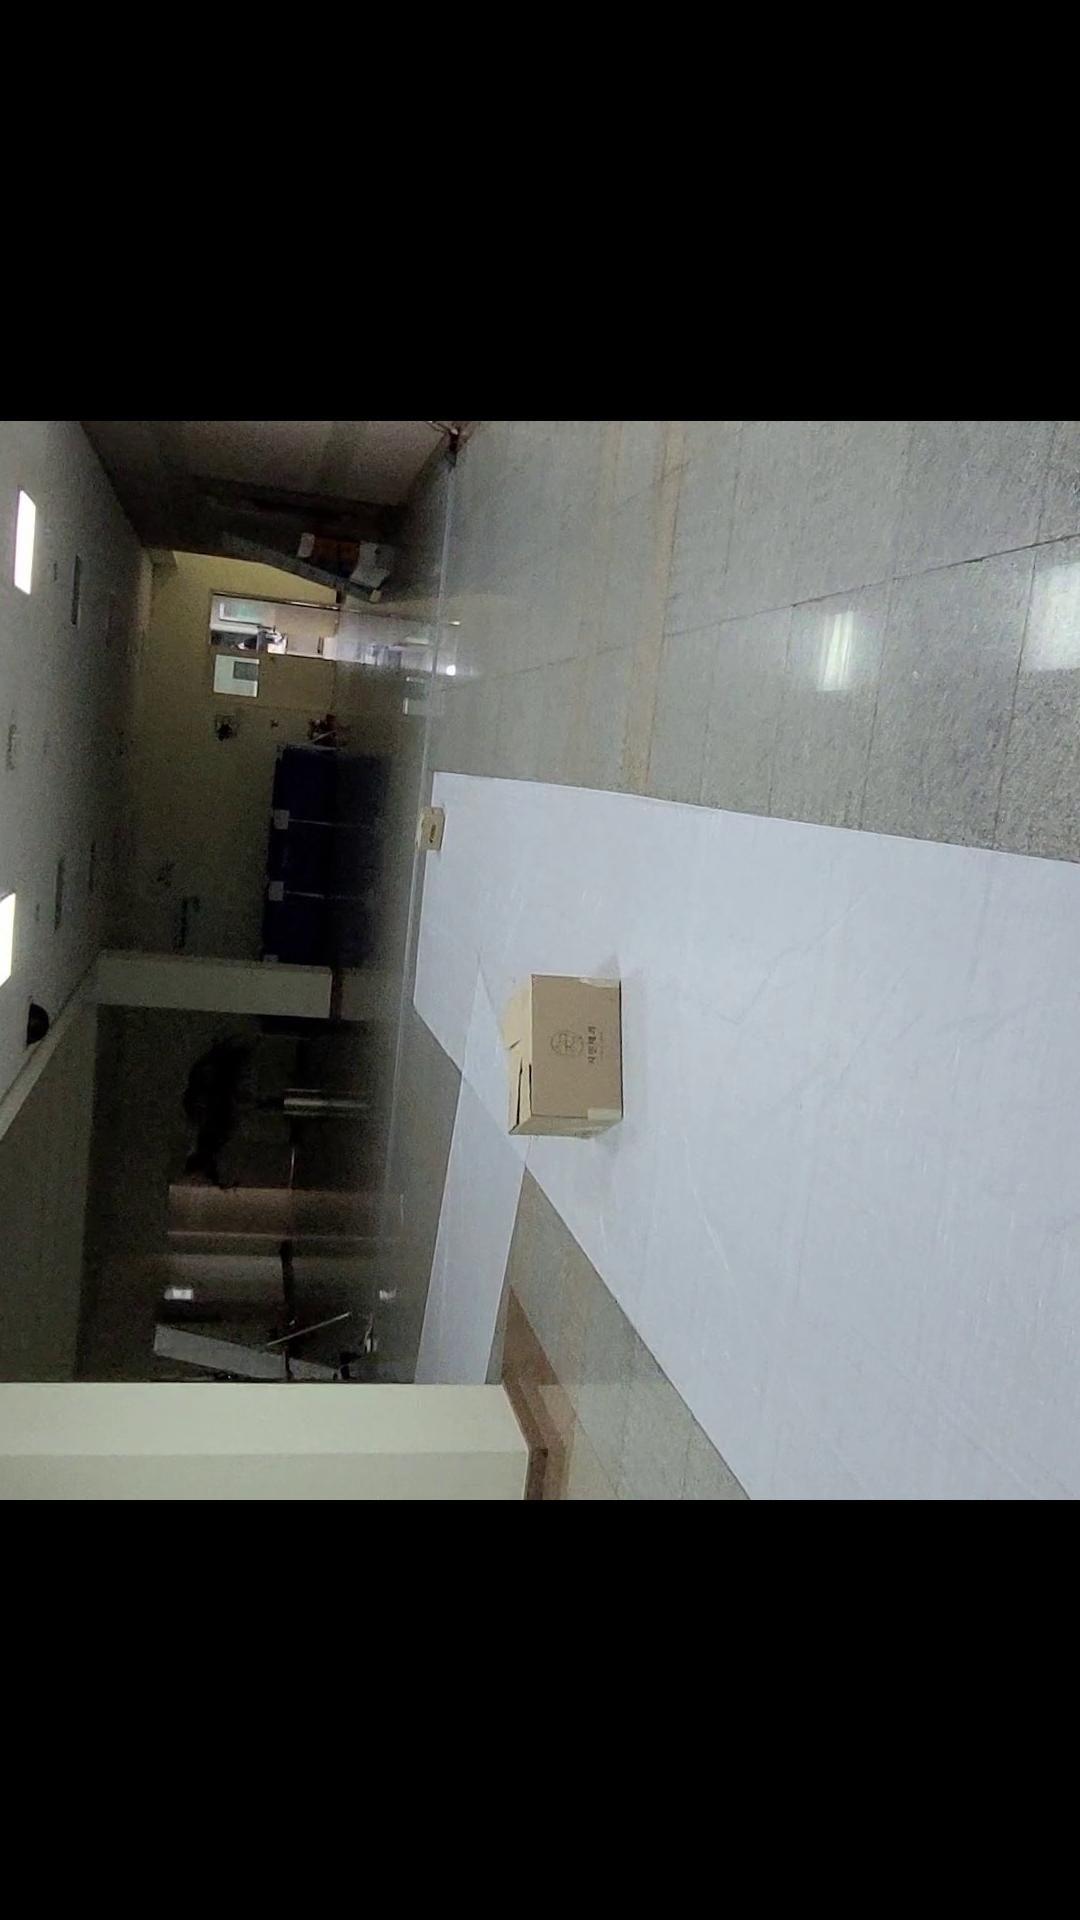Box: (477, 949, 640, 1156), (393, 764, 469, 866)
